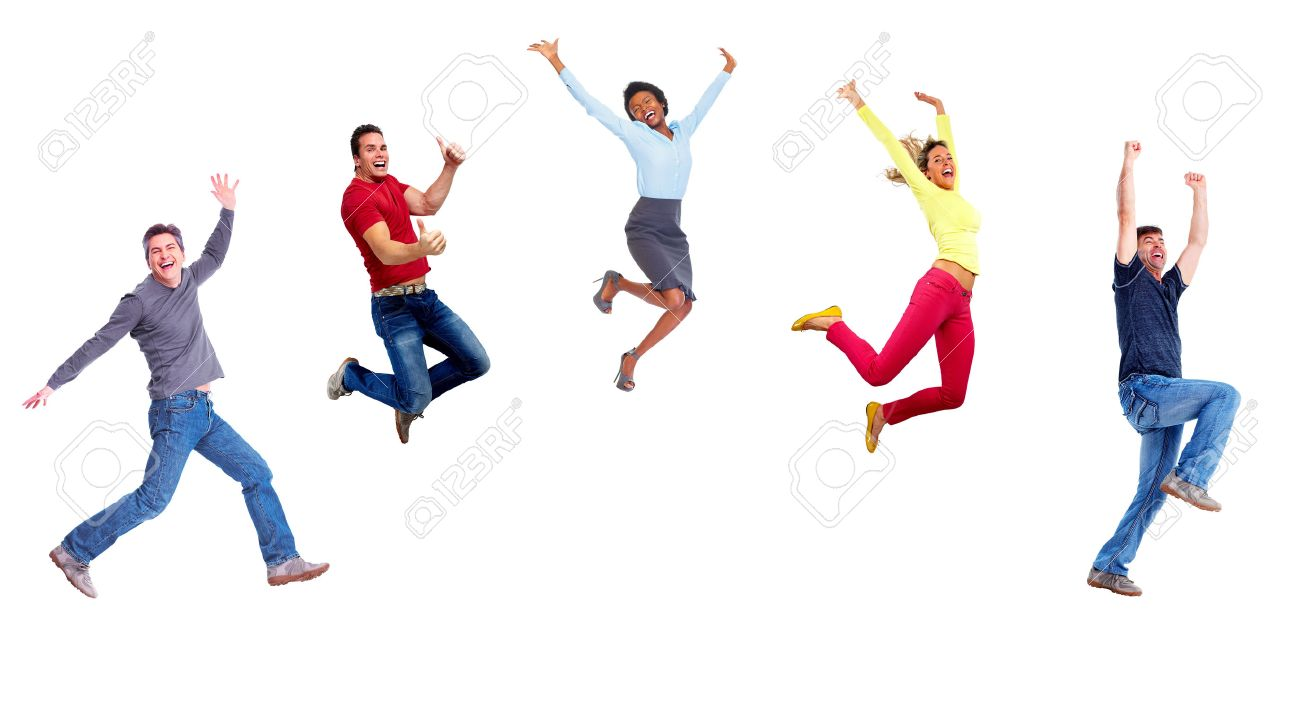Person: (19, 168, 332, 600), (1069, 134, 1244, 621), (524, 32, 744, 411), (792, 75, 994, 462), (323, 119, 501, 451)
